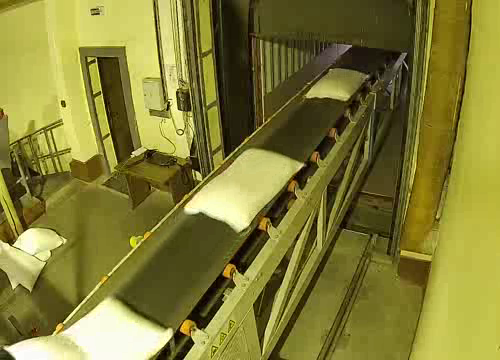bag: (0, 291, 190, 360), (174, 148, 307, 242), (294, 60, 374, 114)
